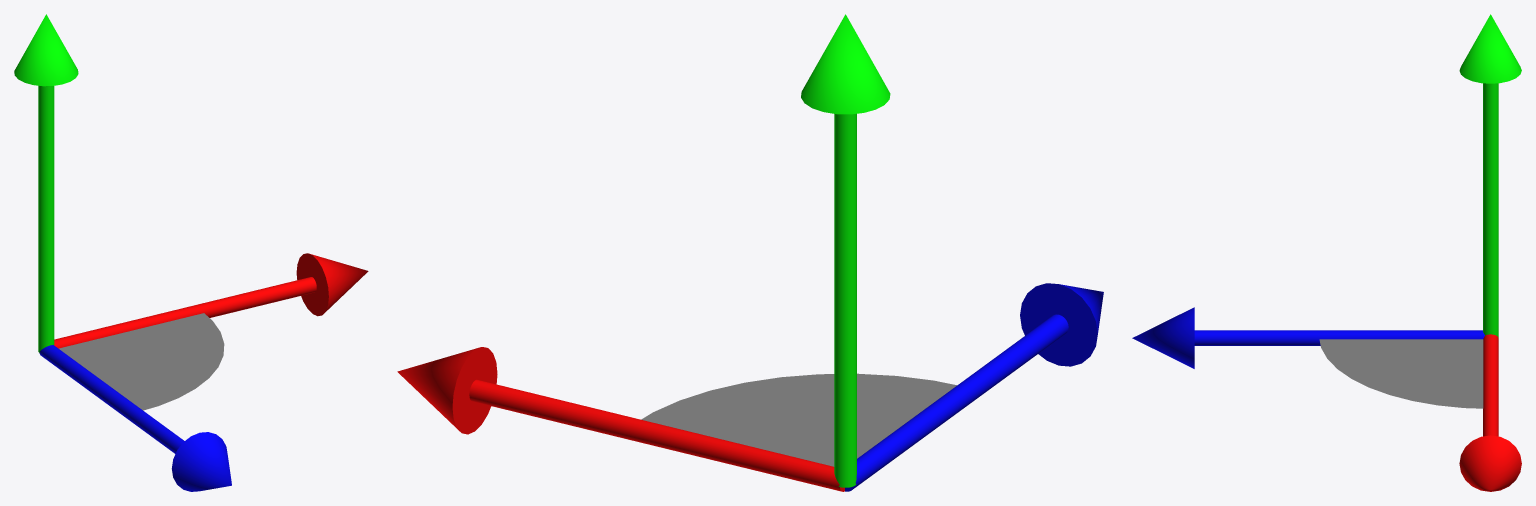
File: translator.obj
3 renders of one model, left to right at view 1: azimuth 30°, elevation 25°; view 2: azimuth 150°, elevation 25°; view 3: azimuth 270°, elevation 25°, orthographic. The views are drawn at different scales.
Parts seen in each view (by area): view 1: pCylinder2, pasted__pCylinder1_group1, pCylinder1, group_pasted__pCone1, pasted__pCylinder1_group, group1_pasted__pCone1, pCone1; view 2: pCylinder2, pCylinder1, pasted__pCylinder1_group1, pasted__pCylinder1_group, group1_pasted__pCone1, pCone1, group_pasted__pCone1; view 3: pCylinder2, pasted__pCylinder1_group1, pasted__pCylinder1_group, pCone1, group1_pasted__pCone1, group_pasted__pCone1, pCylinder1.
Boxes of the visible parts, box(x1,y1,x2,y2) form: pCylinder2: box(59, 313, 224, 410); pasted__pCylinder1_group1: box(38, 85, 54, 352); pCylinder1: box(54, 277, 316, 348); group_pasted__pCone1: box(171, 432, 231, 491); pasted__pCylinder1_group: box(39, 345, 184, 453); group1_pasted__pCone1: box(14, 14, 78, 86); pCone1: box(296, 253, 368, 316); pCylinder2: box(641, 373, 956, 466); pCylinder1: box(469, 379, 844, 491); pasted__pCylinder1_group1: box(834, 113, 856, 487); pasted__pCylinder1_group: box(845, 314, 1068, 491); group1_pasted__pCone1: box(801, 14, 890, 114); pCone1: box(397, 347, 497, 434); group_pasted__pCone1: box(1020, 283, 1103, 366); pCylinder2: box(1319, 339, 1483, 408); pasted__pCylinder1_group1: box(1483, 83, 1498, 337); pasted__pCylinder1_group: box(1194, 330, 1484, 345); pCone1: box(1459, 435, 1521, 491); group1_pasted__pCone1: box(1459, 14, 1521, 83); group_pasted__pCone1: box(1132, 307, 1194, 368); pCylinder1: box(1483, 334, 1498, 436).
Bounding box in the file's own units: 1.25 × 1.25 × 1.25.
